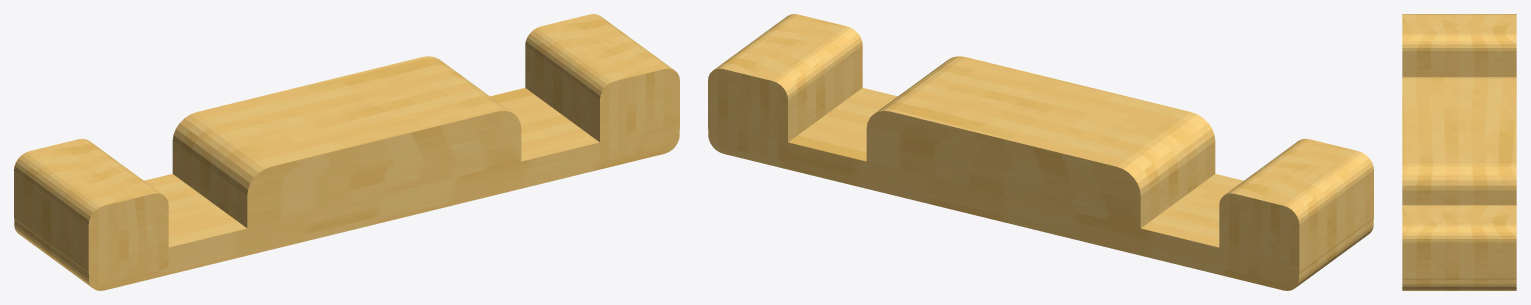
Rendered from rail.obj.
The picture shows the model from 3 angles, left to right: view 1: azimuth 30°, elevation 25°; view 2: azimuth 150°, elevation 25°; view 3: azimuth 270°, elevation 25°; orthographic projection. The views are drawn at different scales.
Parts seen in each view (by area): view 1: Cube; view 2: Cube; view 3: Cube.
Part boxes in pixels (x1,y1,x2,y2): Cube: (14, 14, 679, 290); Cube: (708, 14, 1373, 290); Cube: (1402, 14, 1516, 290).
Size of the model in its own units: 5.02 by 0.6873 by 1.1.
1 material, 1 textured.
